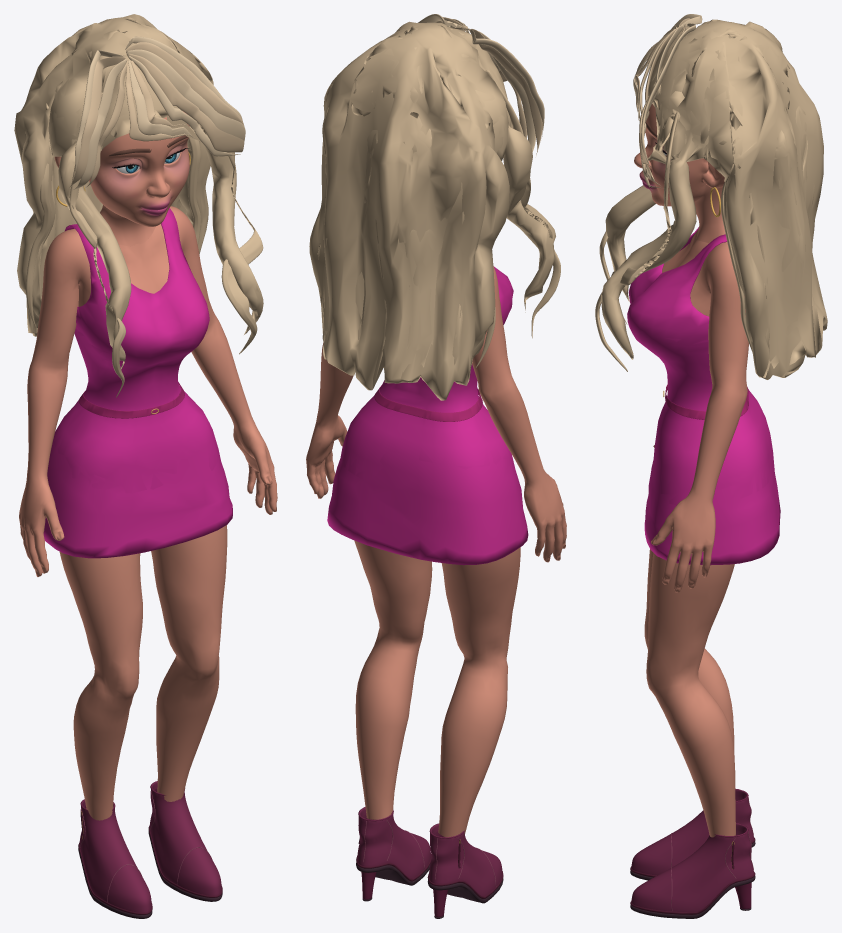
Rendered from rain-preview.glb.
The picture shows the model from 3 angles, left to right: view 1: azimuth 30°, elevation 25°; view 2: azimuth 150°, elevation 25°; view 3: azimuth 270°, elevation 25°; orthographic projection. The views are drawn at different scales.
Visible parts, largest first — view 1: body_default, CompanionWardrobeDress, Expanded.hair.original-blonde.Part4, GEO-rain-head, CompanionBootV3UpperL, CompanionBootV3UpperR, Expanded.hair.original-blonde.Part8, Expanded.hair.original-blonde.Part2, Expanded.hair.original-blonde.Part7, Expanded.hair.original-blonde.Part6, Expanded.hair.original-blonde.Part12, Expanded.hair.original-blonde.Part0 (+11 smaller); view 2: Expanded.hair.original-blonde.Part4, body_default, CompanionWardrobeDress, CompanionBootV3UpperL, CompanionBootV3UpperR, Expanded.hair.original-blonde.Part0, CompanionDetailV3Waist_seam, Expanded.hair.original-blonde.Part12, Expanded.hair.original-blonde.Part13, Expanded.hair.original-blonde.Part11, CompanionBootV3OutsoleR, CompanionBootV3OutsoleL; view 3: Expanded.hair.original-blonde.Part4, body_default, CompanionWardrobeDress, CompanionBootV3UpperL, GEO-rain-head, CompanionBootV3UpperR, Expanded.hair.original-blonde.Part2, Expanded.hair.original-blonde.Part5, CompanionBootV3OutsoleL, Expanded.hair.original-blonde.Part3, CompanionDetailV3Waist_seam.
Part boxes in pixels (box(x1,y1,x2,y2)): body_default: box(19, 206, 277, 820); CompanionWardrobeDress: box(43, 208, 232, 558); Expanded.hair.original-blonde.Part4: box(14, 14, 263, 369); GEO-rain-head: box(54, 111, 189, 246); CompanionBootV3UpperL: box(149, 781, 221, 895); CompanionBootV3UpperR: box(79, 799, 151, 912); Expanded.hair.original-blonde.Part8: box(127, 53, 244, 152); Expanded.hair.original-blonde.Part2: box(221, 152, 263, 354); Expanded.hair.original-blonde.Part7: box(126, 49, 245, 140); Expanded.hair.original-blonde.Part6: box(126, 42, 244, 126); Expanded.hair.original-blonde.Part12: box(69, 56, 125, 187); Expanded.hair.original-blonde.Part0: box(69, 92, 125, 397); Expanded.hair.original-blonde.Part4: box(309, 21, 555, 400); body_default: box(306, 266, 566, 837); CompanionWardrobeDress: box(327, 266, 528, 565); CompanionBootV3UpperL: box(357, 807, 430, 878); CompanionBootV3UpperR: box(429, 823, 502, 896); Expanded.hair.original-blonde.Part0: box(485, 70, 560, 338); CompanionDetailV3Waist_seam: box(374, 385, 482, 421); Expanded.hair.original-blonde.Part12: box(471, 29, 542, 155); Expanded.hair.original-blonde.Part13: box(469, 29, 544, 138); Expanded.hair.original-blonde.Part11: box(478, 31, 535, 152); CompanionBootV3OutsoleR: box(427, 878, 503, 903); CompanionBootV3OutsoleL: box(356, 863, 430, 885); Expanded.hair.original-blonde.Part4: box(601, 19, 827, 379); body_default: box(644, 230, 748, 837); CompanionWardrobeDress: box(627, 227, 780, 565); CompanionBootV3UpperL: box(631, 823, 753, 912); GEO-rain-head: box(634, 97, 725, 242); CompanionBootV3UpperR: box(631, 789, 754, 875); Expanded.hair.original-blonde.Part2: box(595, 111, 678, 371); Expanded.hair.original-blonde.Part5: box(641, 23, 695, 168); CompanionBootV3OutsoleL: box(630, 876, 755, 918); Expanded.hair.original-blonde.Part3: box(721, 182, 752, 352); CompanionDetailV3Waist_seam: box(665, 384, 748, 419).
Bounding box in the file's own units: 0.5227 × 1.75 × 0.4285.
Materials: 23 (1 with a texture image).
